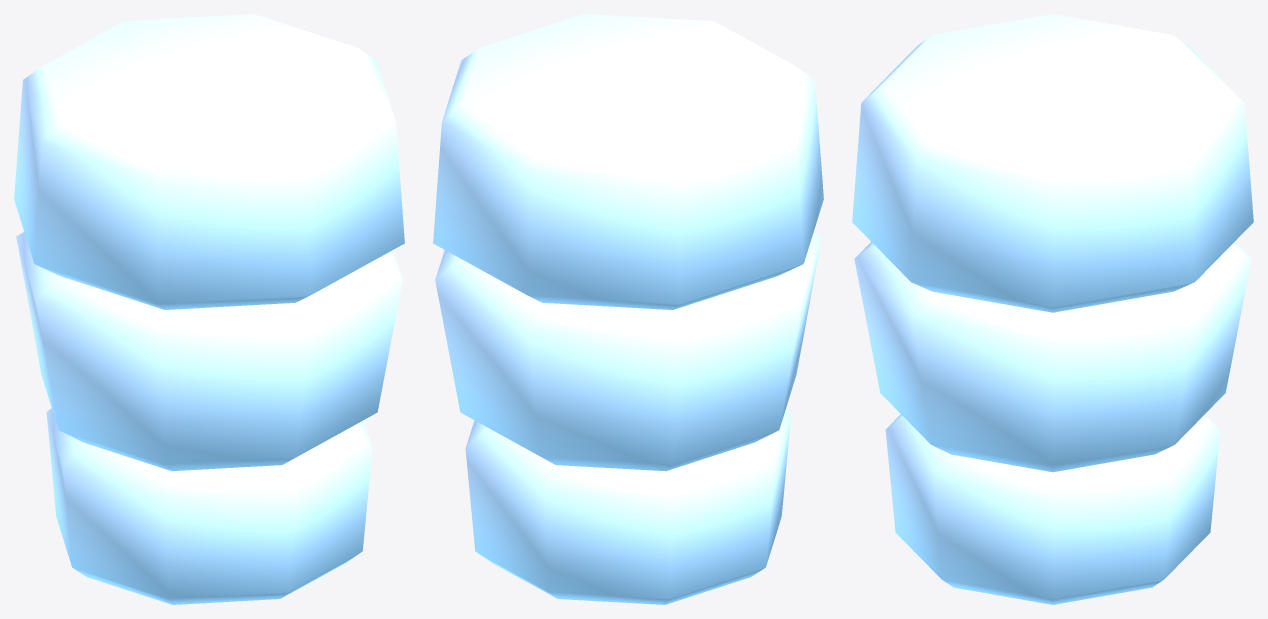
File: steel_grip_031.glb
3 renders of one model, left to right at view 1: azimuth 30°, elevation 25°; view 2: azimuth 150°, elevation 25°; view 3: azimuth 270°, elevation 25°, orthographic.
Visible parts, largest first — view 1: steel_grip_031; view 2: steel_grip_031; view 3: steel_grip_031.
Part boxes in pixels (<box>): steel_grip_031: <box>14,14,404,604</box>; steel_grip_031: <box>433,14,823,604</box>; steel_grip_031: <box>852,14,1253,604</box>.
Bounding box in the file's own units: 2.37 × 3 × 2.37.
1 material, 1 textured.
